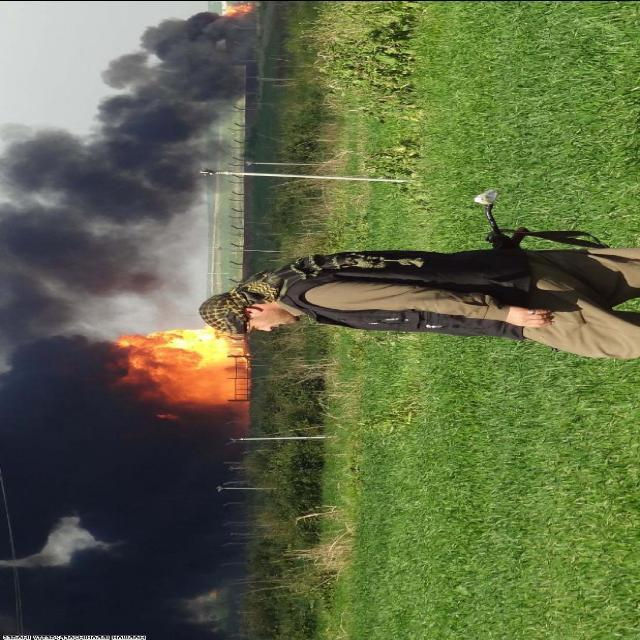Fire: (110, 322, 248, 418), (222, 3, 255, 17)
